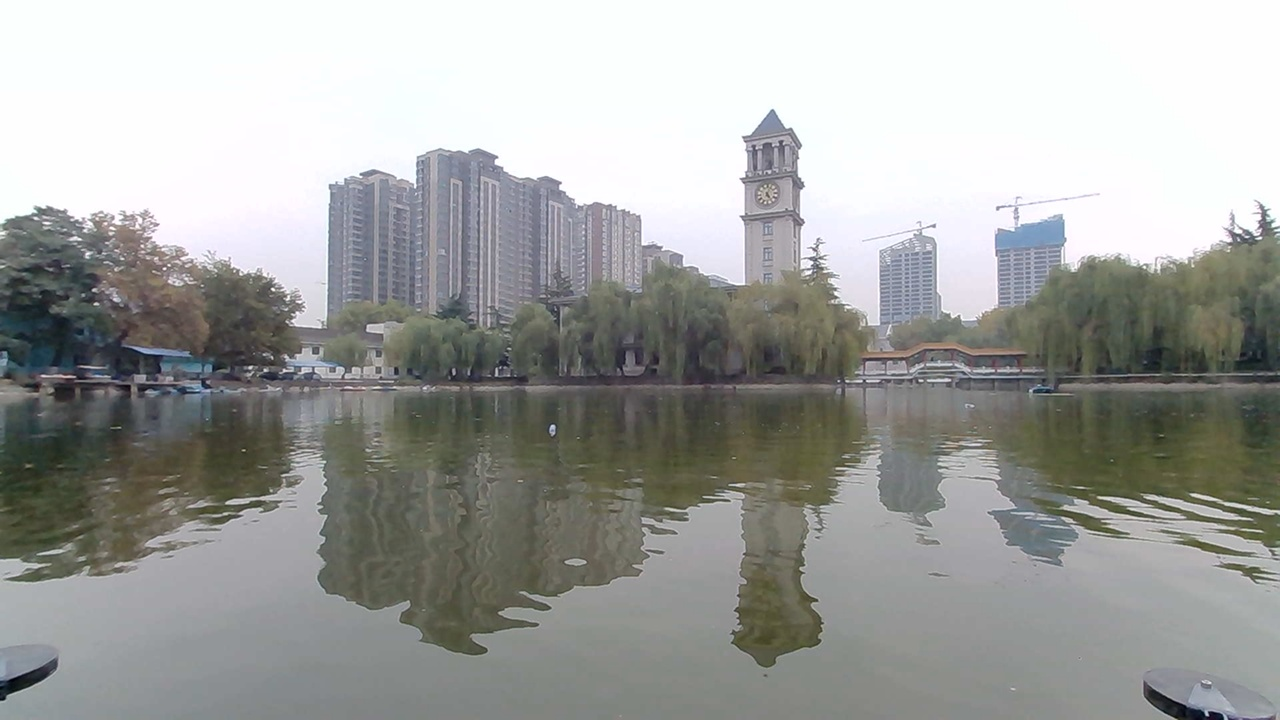bottle: (524, 410, 576, 442), (956, 394, 988, 413)
